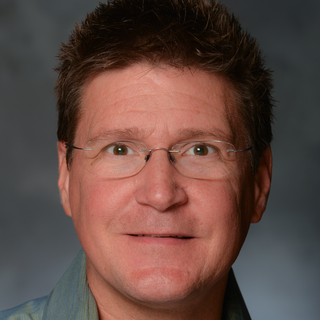eye: (179, 139, 222, 163), (97, 139, 139, 163)
